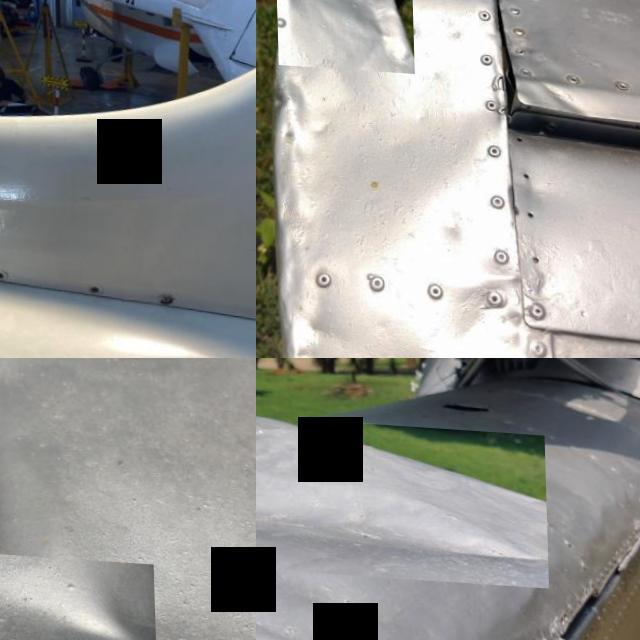Dent: (256, 402, 546, 581), (0, 550, 154, 640), (256, 545, 393, 640), (274, 0, 412, 69)
Missing_Fastener: (84, 281, 100, 291), (0, 269, 3, 279)
